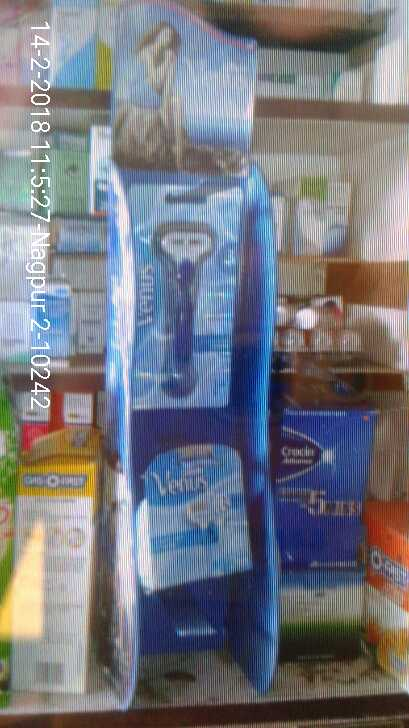venus: (126, 182, 233, 415), (143, 441, 253, 580)
